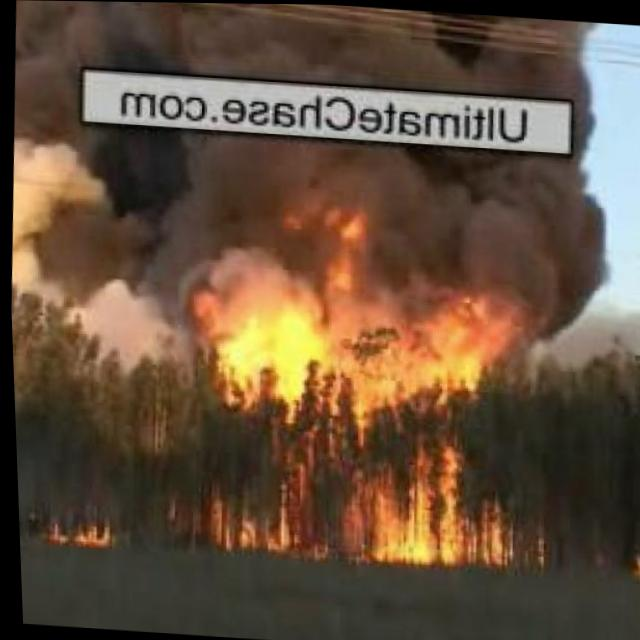Fire: (167, 215, 526, 572), (37, 515, 109, 549), (627, 548, 640, 583)
